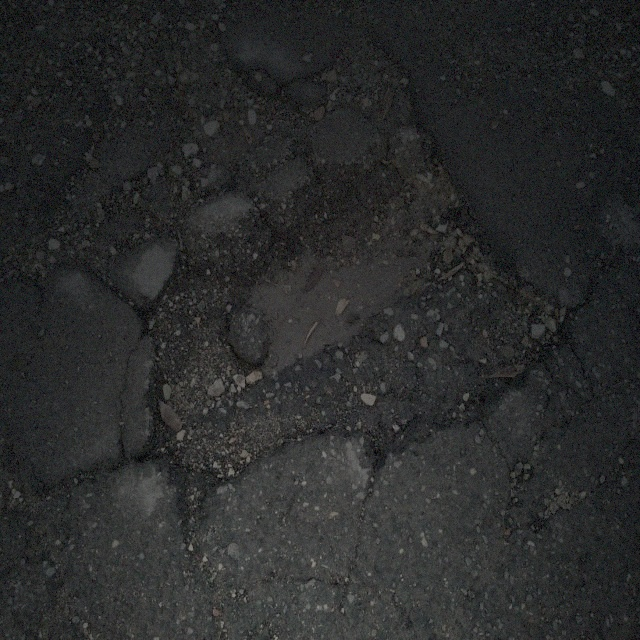pothole: (137, 155, 577, 499)
